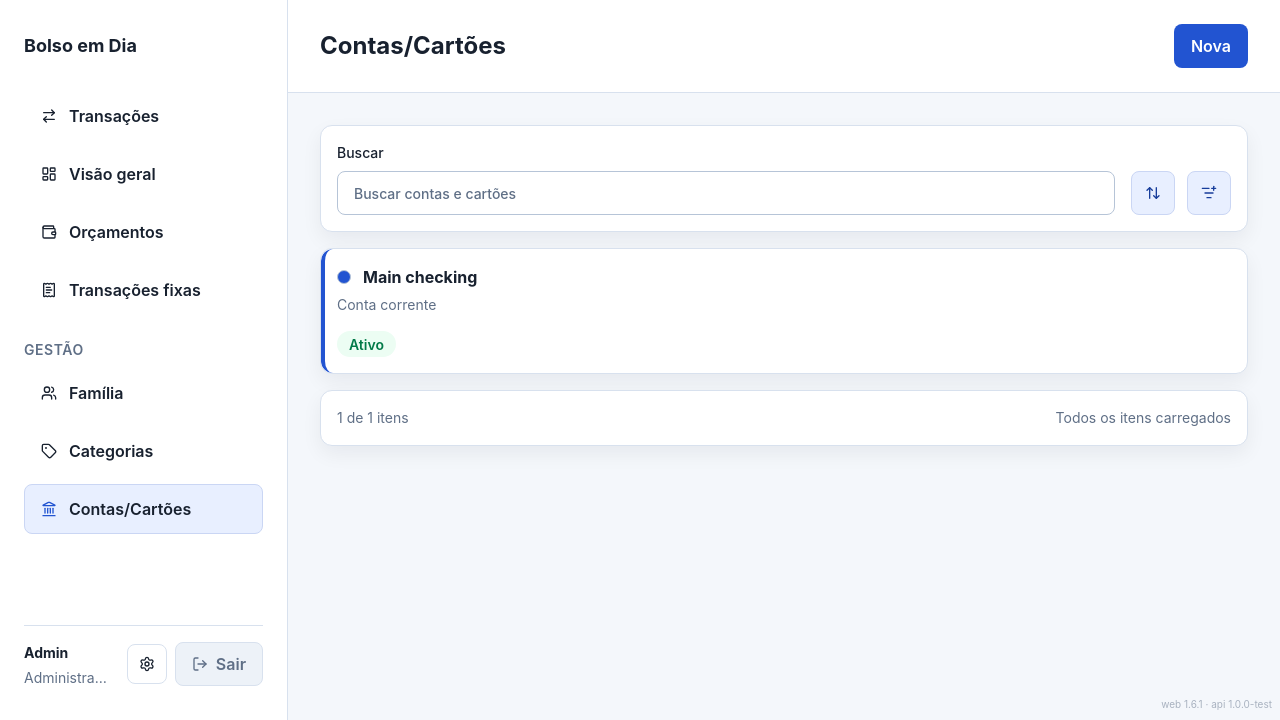
it: AccountsPage › shows error feedback when archive fails
The width and height of the screenshot is (1280, 720).
Expected: the text "Main checking" is shown, [363, 265, 477, 289]
Click the button "Main checking Conta corrente Ativo".
click(420, 277)  # box [321, 249, 1247, 373]
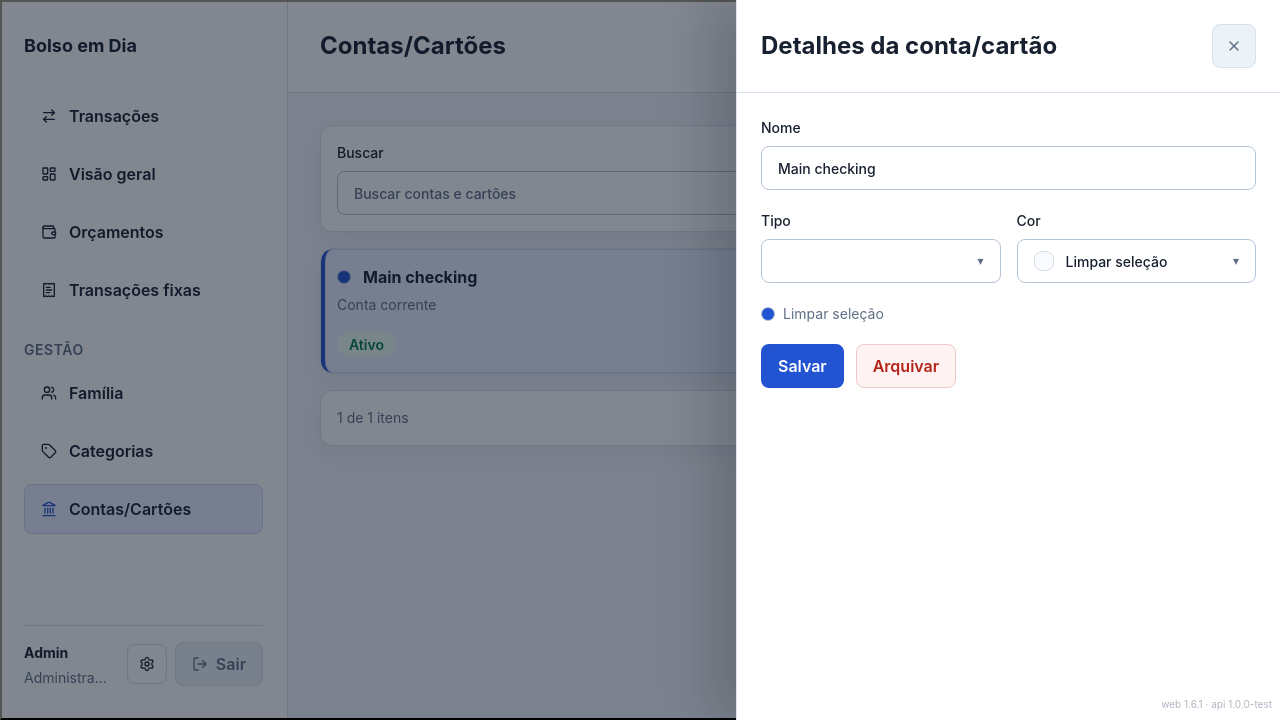
Click the button "Arquivar".
click(906, 366)  # box [856, 344, 956, 388]
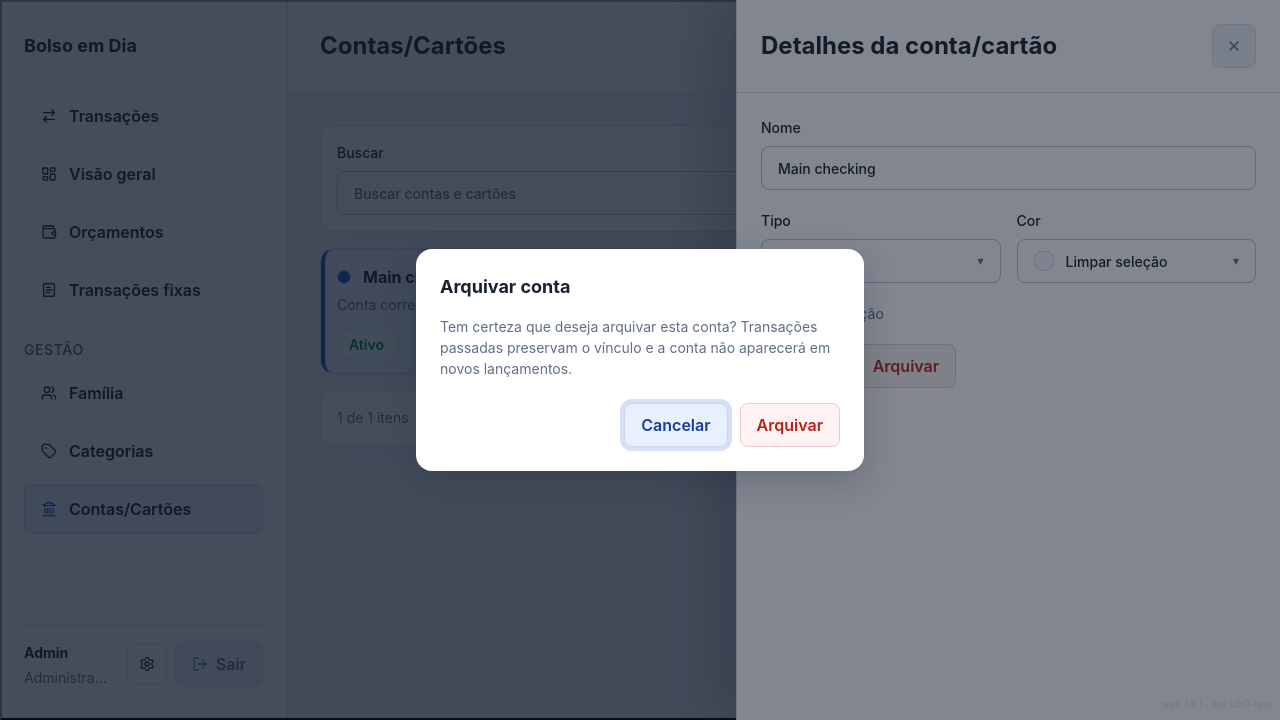
Click the button "Arquivar".
click(790, 425)  # box [740, 403, 840, 447]
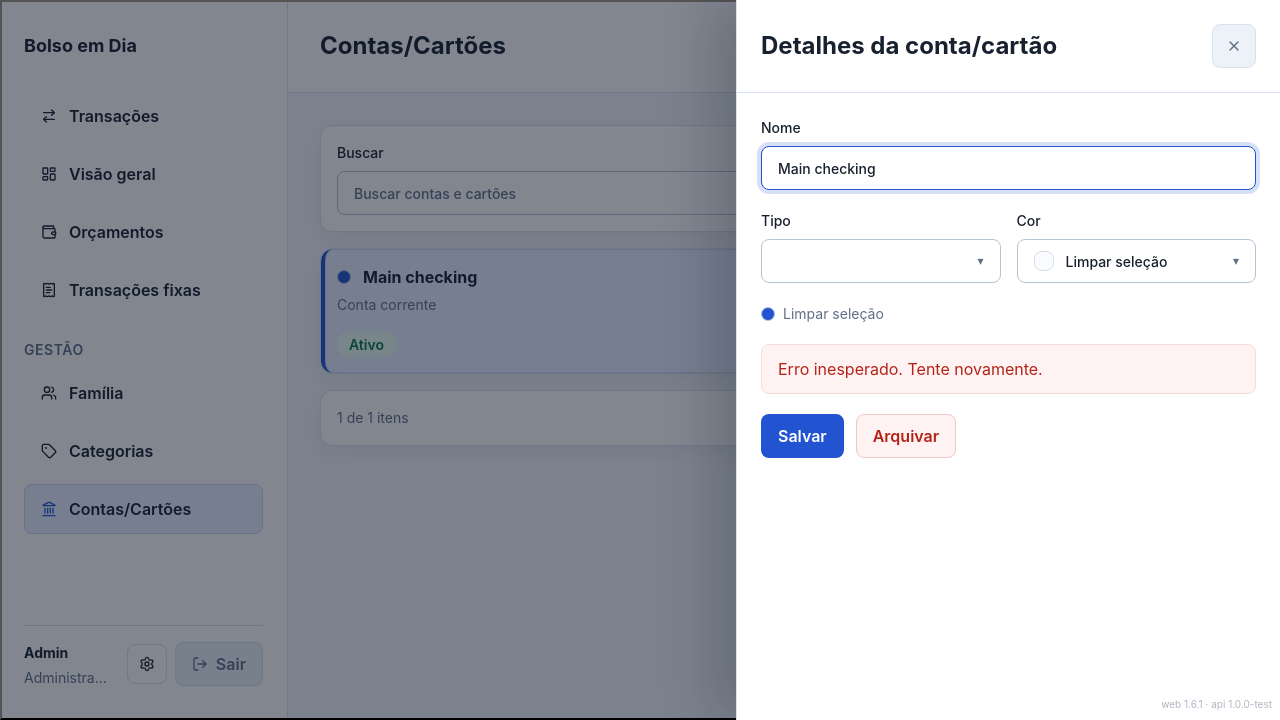
Result: the text "Erro inesperado. Tente novamente." is shown at [761, 344, 1256, 394]
